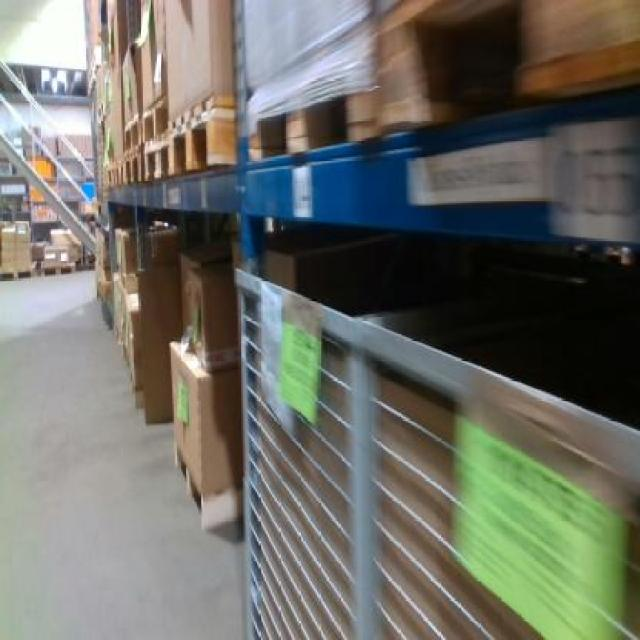pallet: (162, 82, 243, 186), (137, 121, 173, 191), (133, 95, 173, 152), (34, 256, 86, 280), (0, 260, 40, 285)
